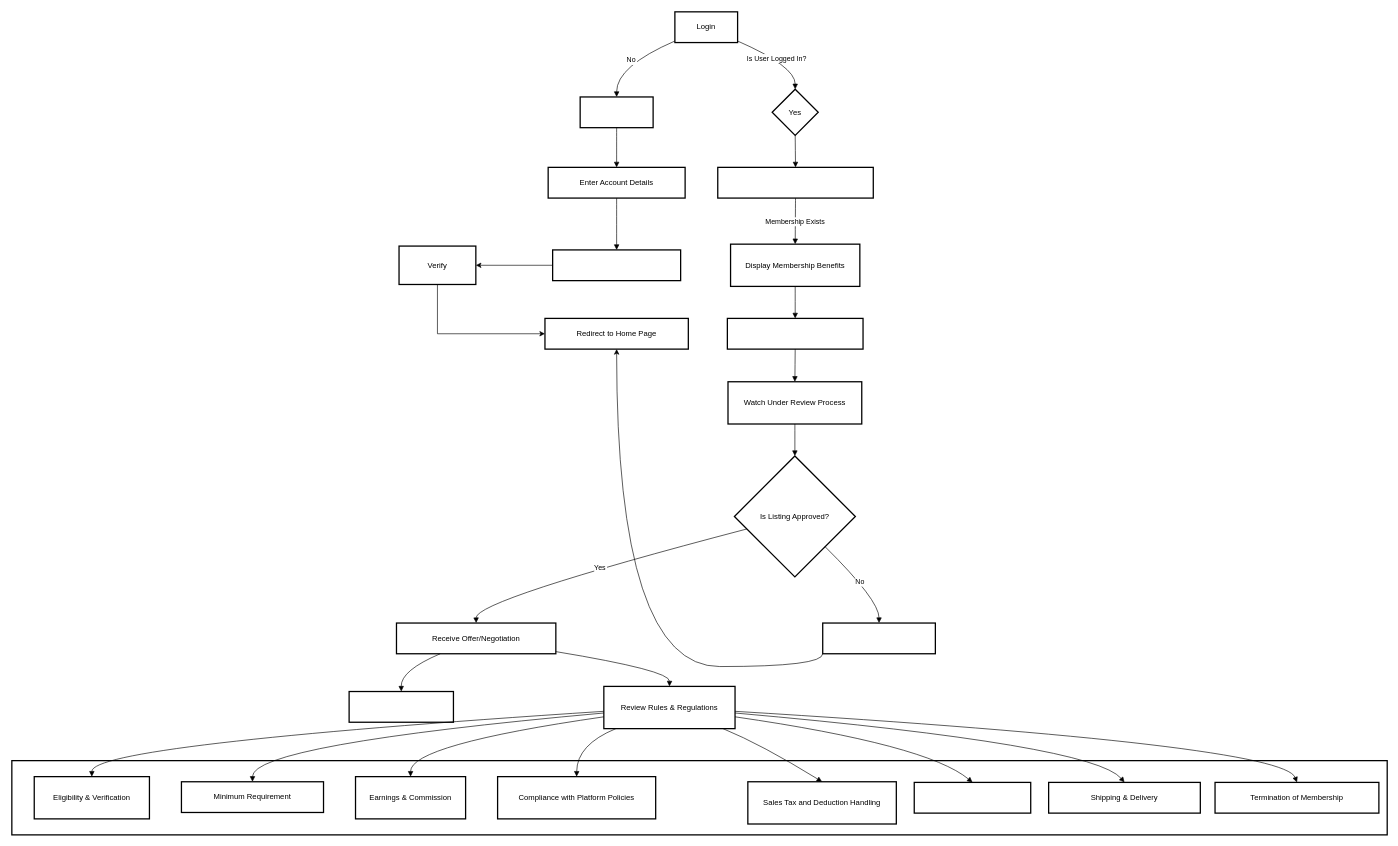
This 1398x846 diagram has some shape labels left out. The shapes that lost their labels are listed below. From the top down, each one's box as (x1, y1, x2, y2) in pixels, then its label:
(579, 96, 653, 128): Sign-Up
(717, 166, 874, 198): Check Membership Status
(552, 249, 681, 281): Submit Registration
(726, 317, 863, 349): Submit Watch Details
(822, 622, 936, 654): Listing Rejected
(348, 691, 454, 723): Complete Sale
(11, 760, 1388, 835): Rules and Regulations
(913, 781, 1031, 813): Account Security
